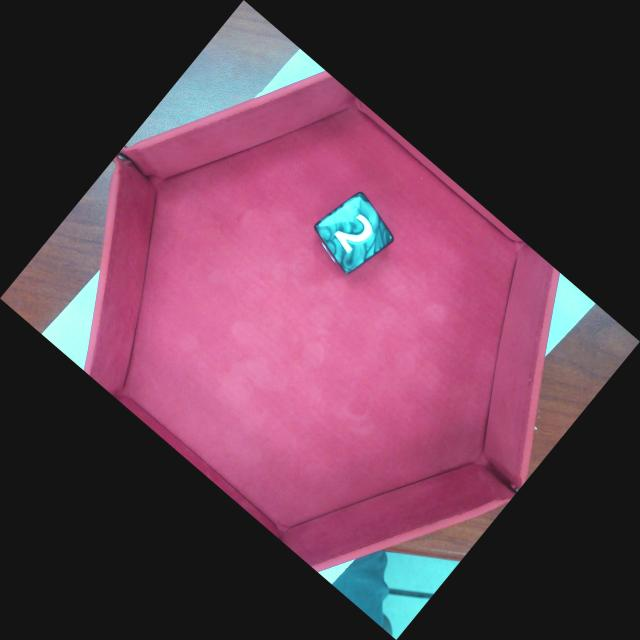dice: (309, 189, 398, 279)
